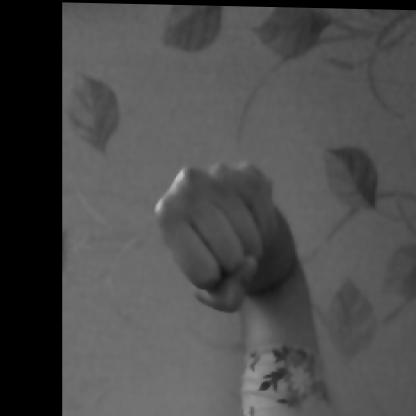fist: (142, 123, 306, 344)
